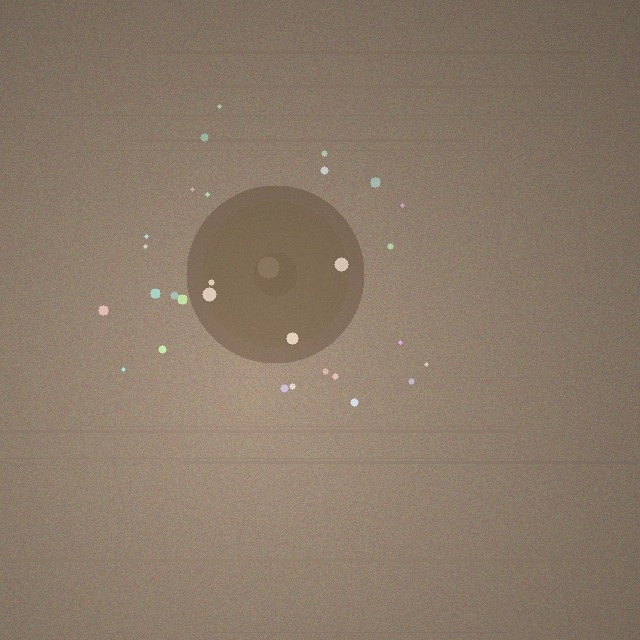overburn: (186, 185, 364, 363)
